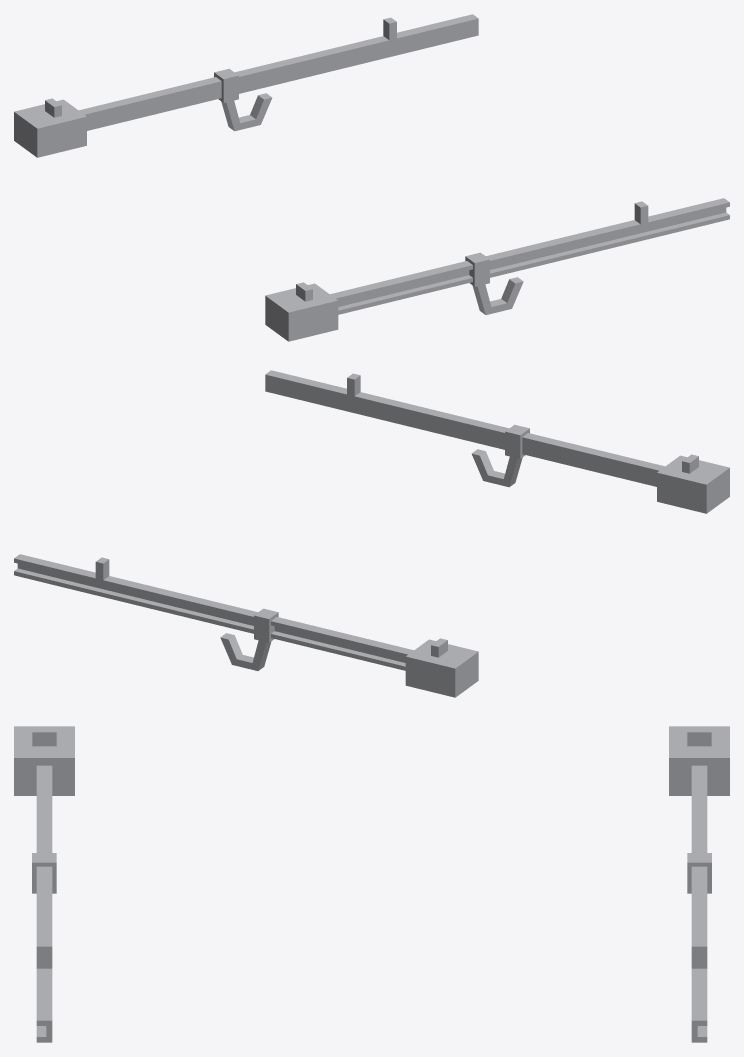
The model's file is SM_Bld_GarageDoor_Tracks_01.obj.
3 renders of one model, top to bottom at view 1: azimuth 30°, elevation 25°; view 2: azimuth 150°, elevation 25°; view 3: azimuth 270°, elevation 25°, orthographic. The views are drawn at different scales.
Parts seen in each view (by area): view 1: SM_Bld_GarageDoor_Tracks_01_Mat_SwatchOverlay_PolygonTown_01_Ins; view 2: SM_Bld_GarageDoor_Tracks_01_Mat_SwatchOverlay_PolygonTown_01_Ins; view 3: SM_Bld_GarageDoor_Tracks_01_Mat_SwatchOverlay_PolygonTown_01_Ins.
Part boxes in pixels (box(x1,y1,x2,y2)): SM_Bld_GarageDoor_Tracks_01_Mat_SwatchOverlay_PolygonTown_01_Ins: box(14, 14, 729, 341); SM_Bld_GarageDoor_Tracks_01_Mat_SwatchOverlay_PolygonTown_01_Ins: box(14, 370, 729, 697); SM_Bld_GarageDoor_Tracks_01_Mat_SwatchOverlay_PolygonTown_01_Ins: box(14, 726, 729, 1042).
Bounding box in the file's own units: 8.1 × 1.2 × 8.56.
Materials: 1 (1 with a texture image).
